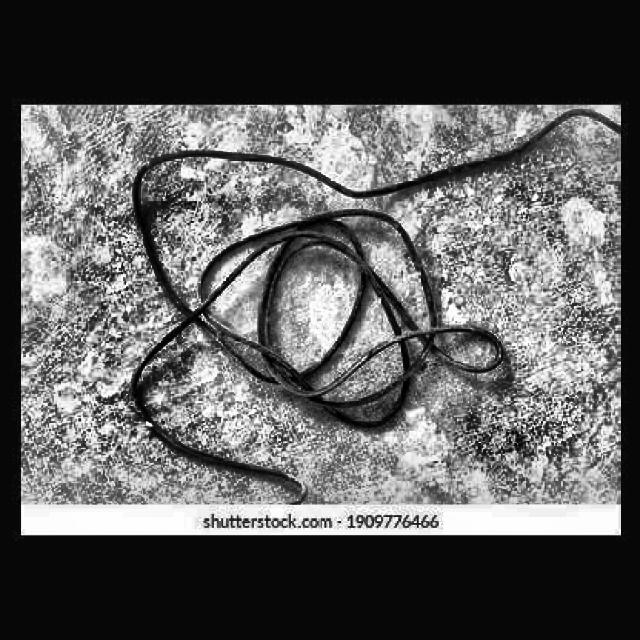Cable: (133, 110, 619, 504)
